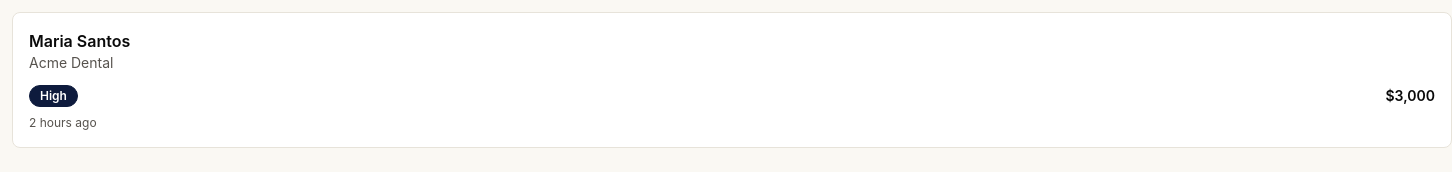
Test case: LeadCard › opens the lead when clicked, keeping the selected organization
The width and height of the screenshot is (1452, 172).
Click the button "Maria Santos Acme Dental High $3,000 2 hours ago".
click(732, 80)  # box [12,12,1451,148]
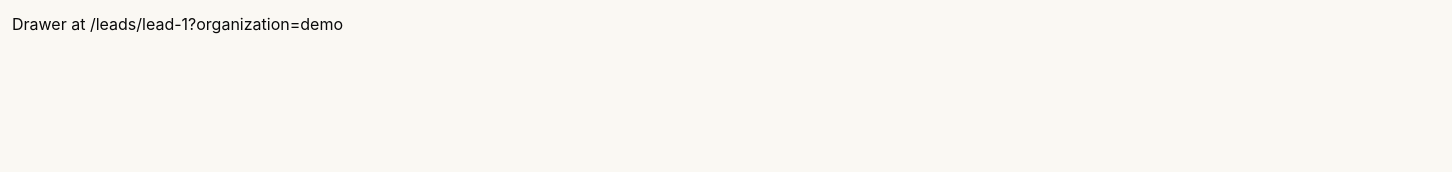
Check: the text "Drawer at /leads/lead-1?organization=demo" is shown, box [12,14,343,34]
